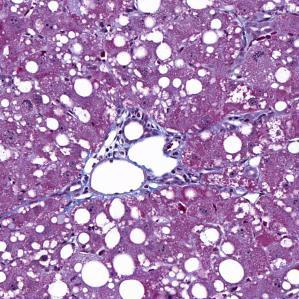fibrosis: (104, 112, 161, 153)
